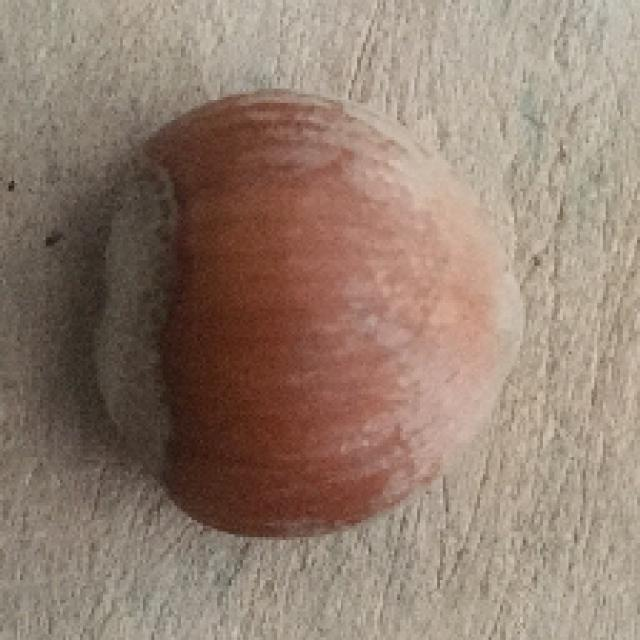qualityHazelnut: (98, 92, 529, 541)
